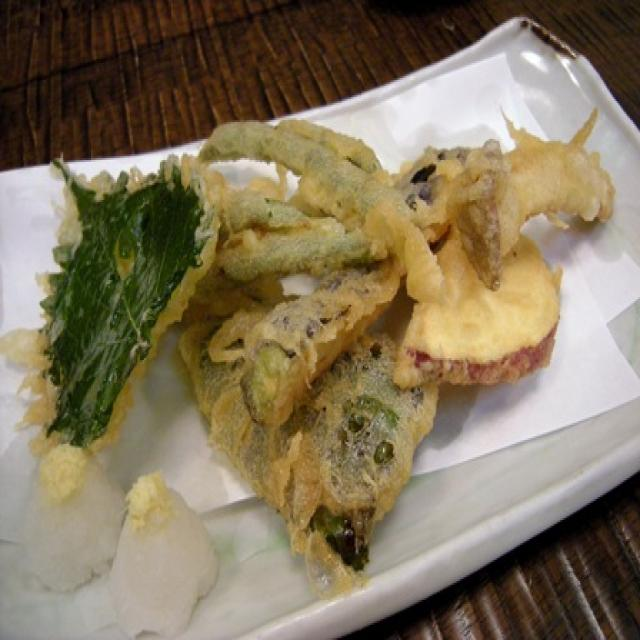蔬菜料理: (57, 97, 620, 572)
